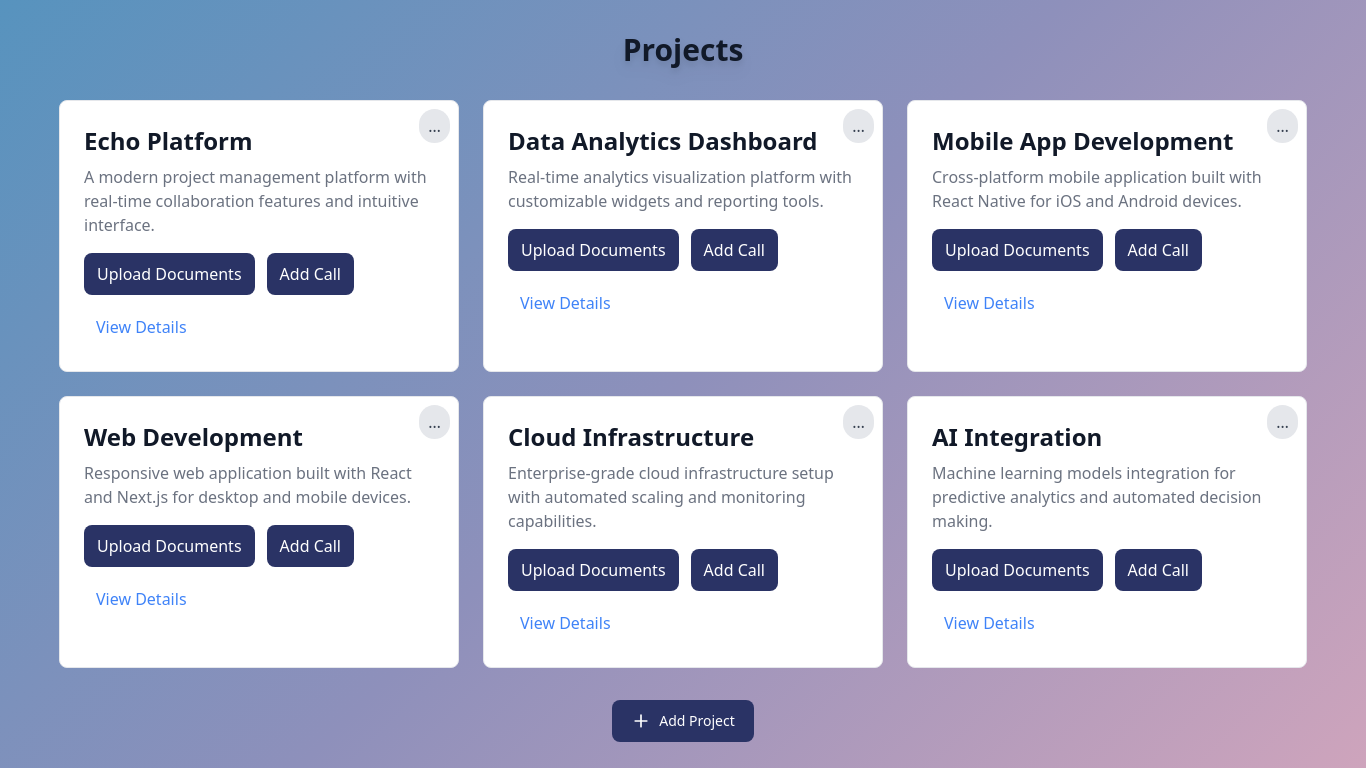
Test: Projects › closes Add Project modal when Cancel button is clicked
Expected: the heading "Echo Platform" is shown, [84,124,253,157]
// Open modal
Click the button "Add Project" at (683, 721), box [612,700,754,742]
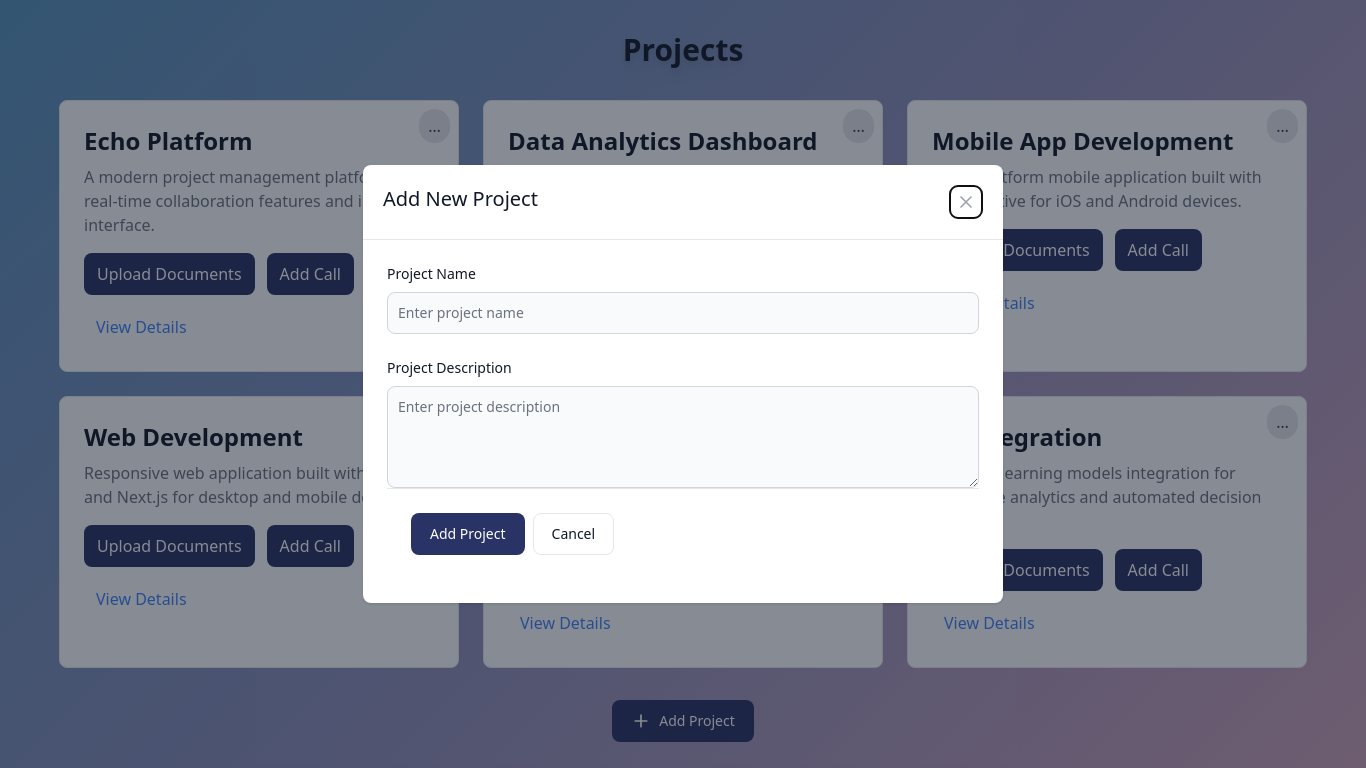
// Close modal
Click the button "Cancel" at (573, 534), box [532,513,614,555]
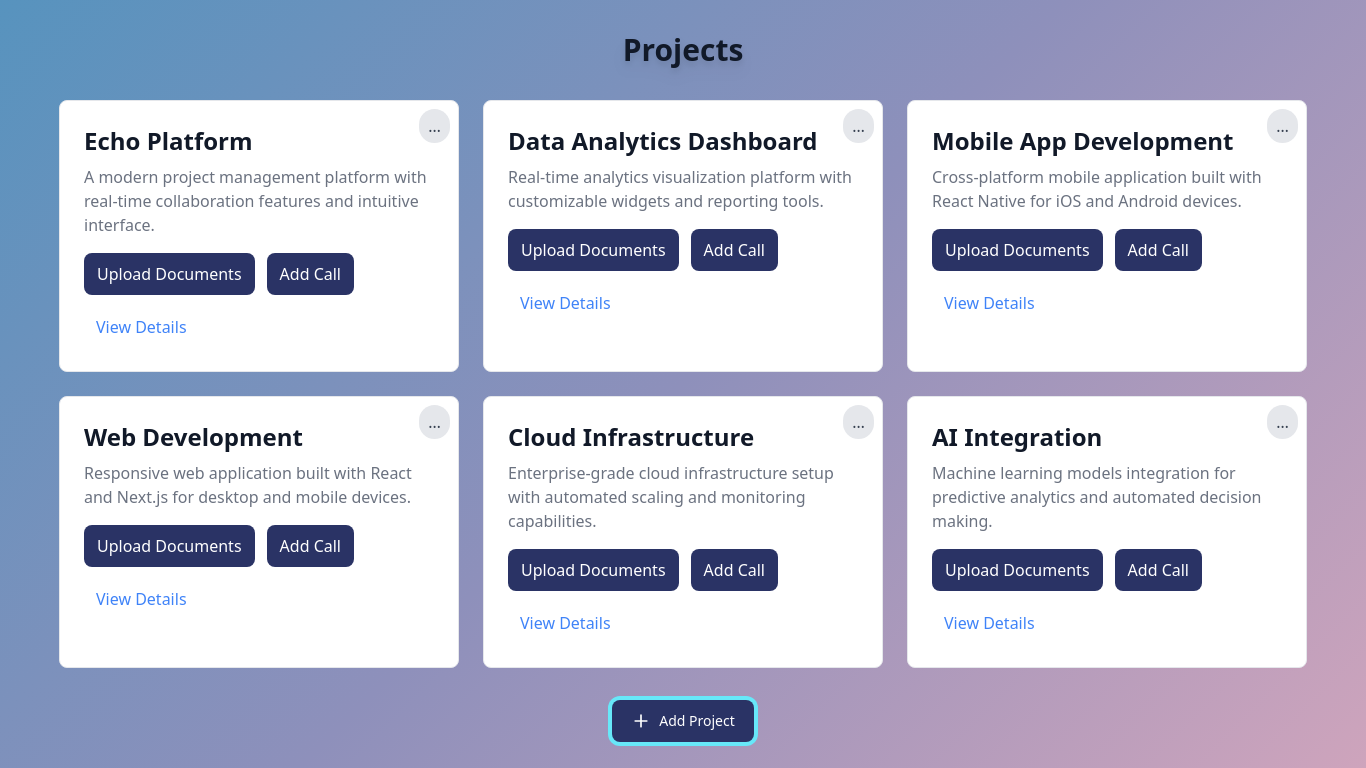
Result: the heading "Add New Project" is gone
